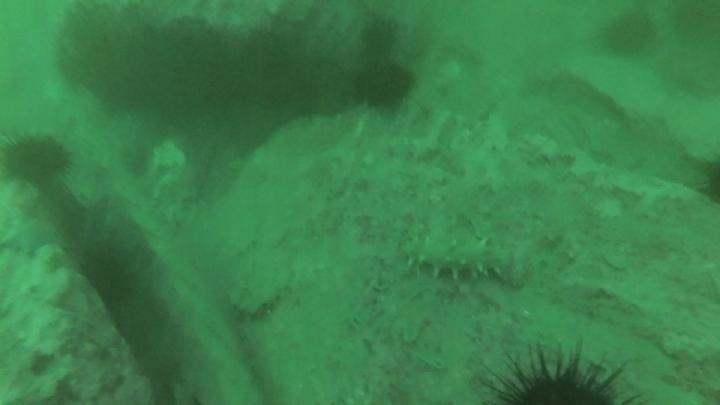echinus: (478, 340, 640, 404), (1, 129, 74, 189), (77, 246, 135, 311), (352, 57, 415, 111), (599, 9, 658, 59), (357, 16, 401, 58)
holothurian: (398, 233, 517, 284)
starfish: (1, 208, 66, 260)
